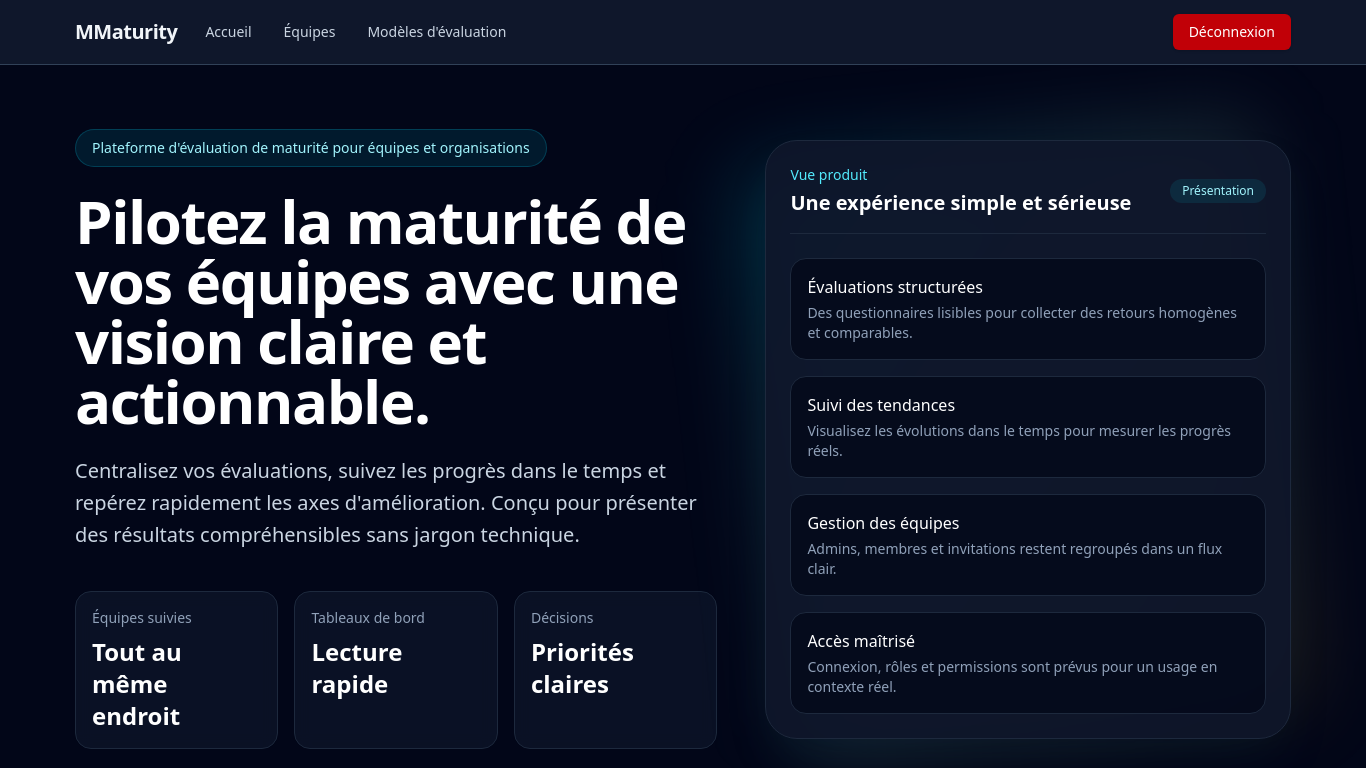
Test: Navigation and Permissions › As PMO User › should be able to navigate to Admin Models
Click the link "Modèles d'évaluation": (437, 32) [367,22,506,41]
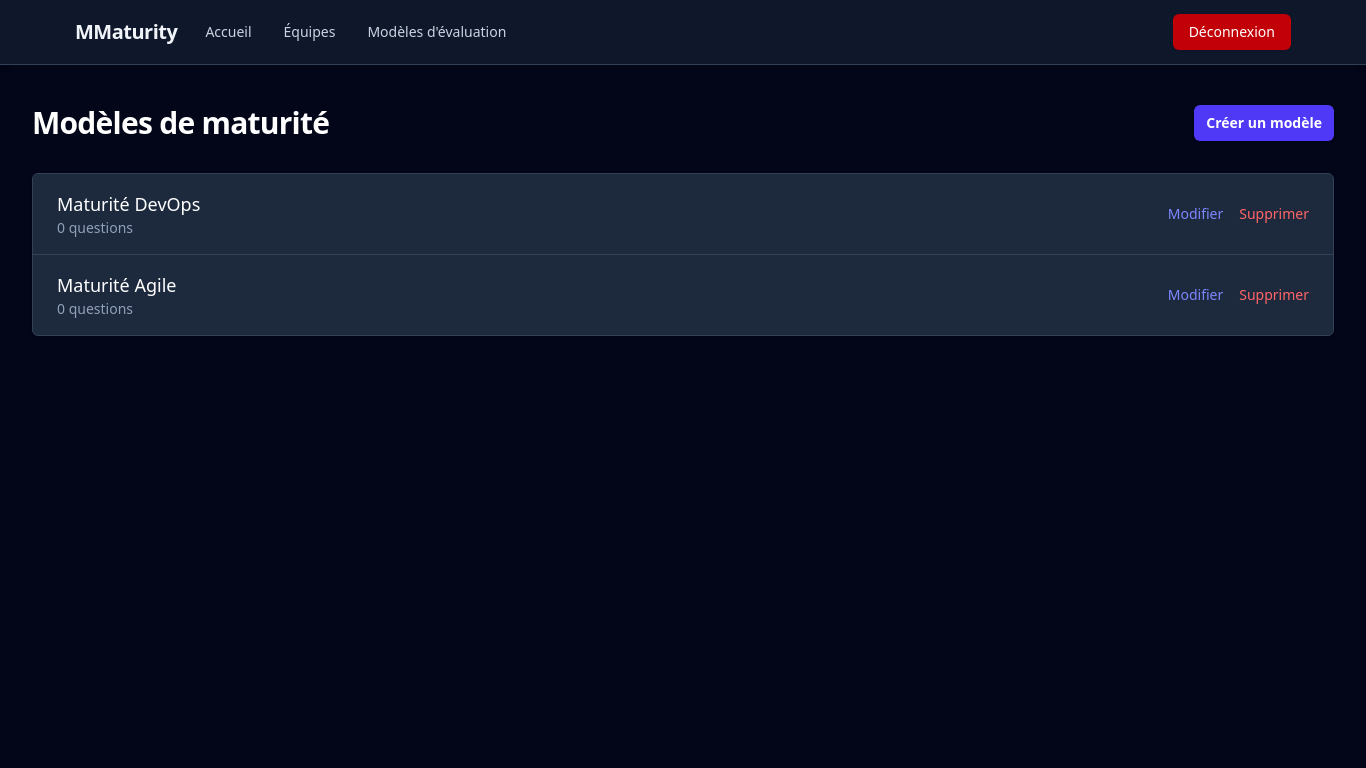
Now the heading "Modèles de maturité" is shown, box [32,105,329,141]
